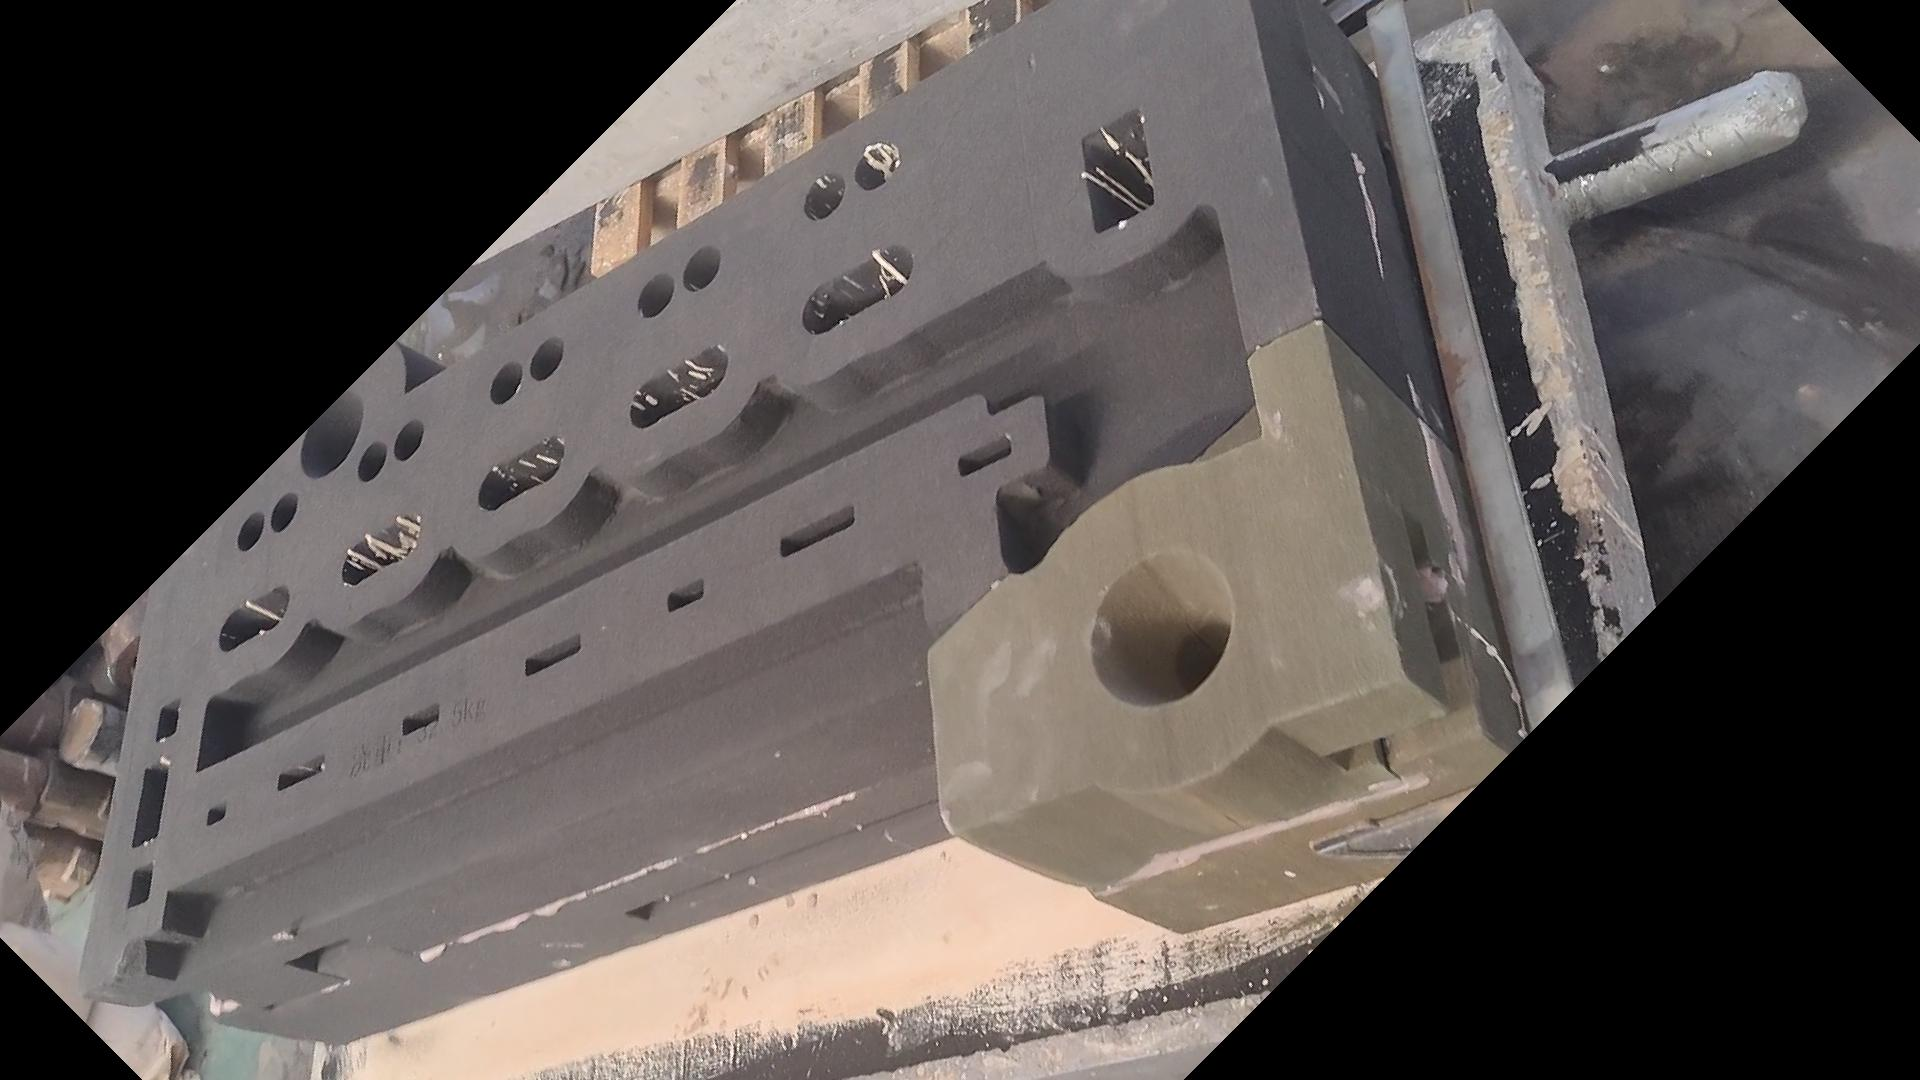pouring hole: (1089, 549, 1236, 709), (299, 392, 364, 477)
